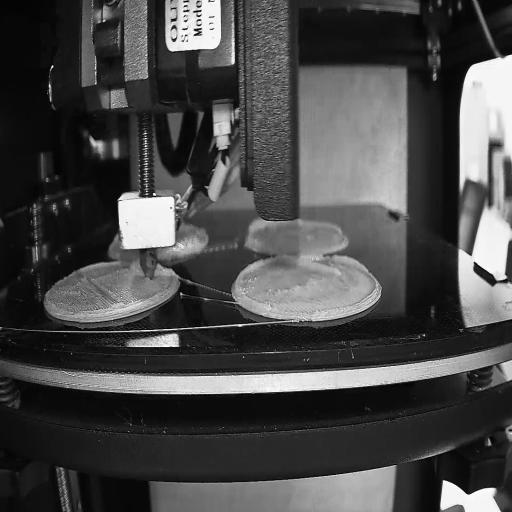over_extrusion: (287, 255, 370, 282), (235, 256, 271, 309), (246, 220, 262, 244), (154, 260, 175, 278)
